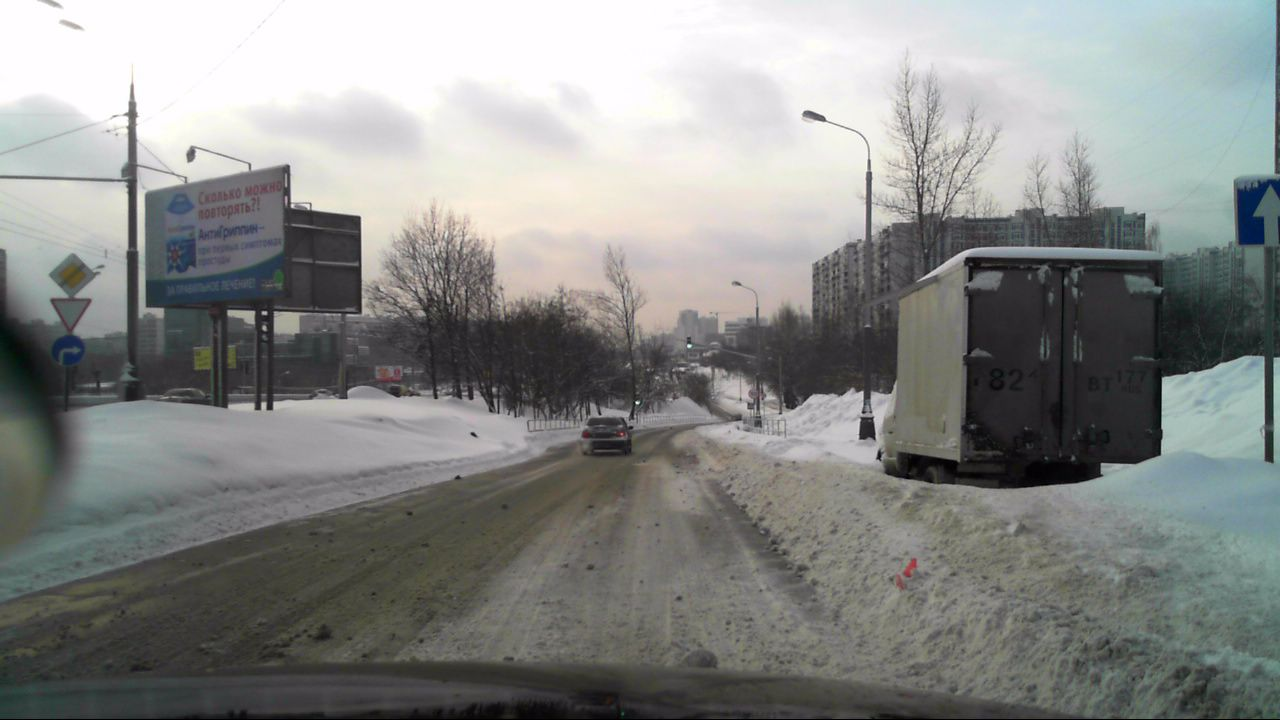main road: (47, 250, 96, 295)
